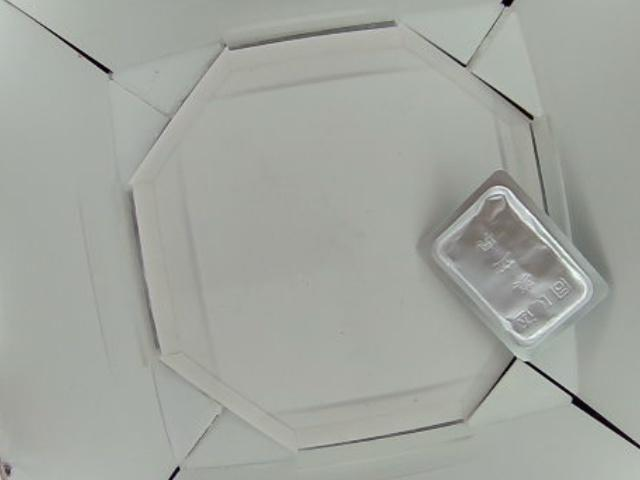Medicine: (418, 170, 607, 364)
